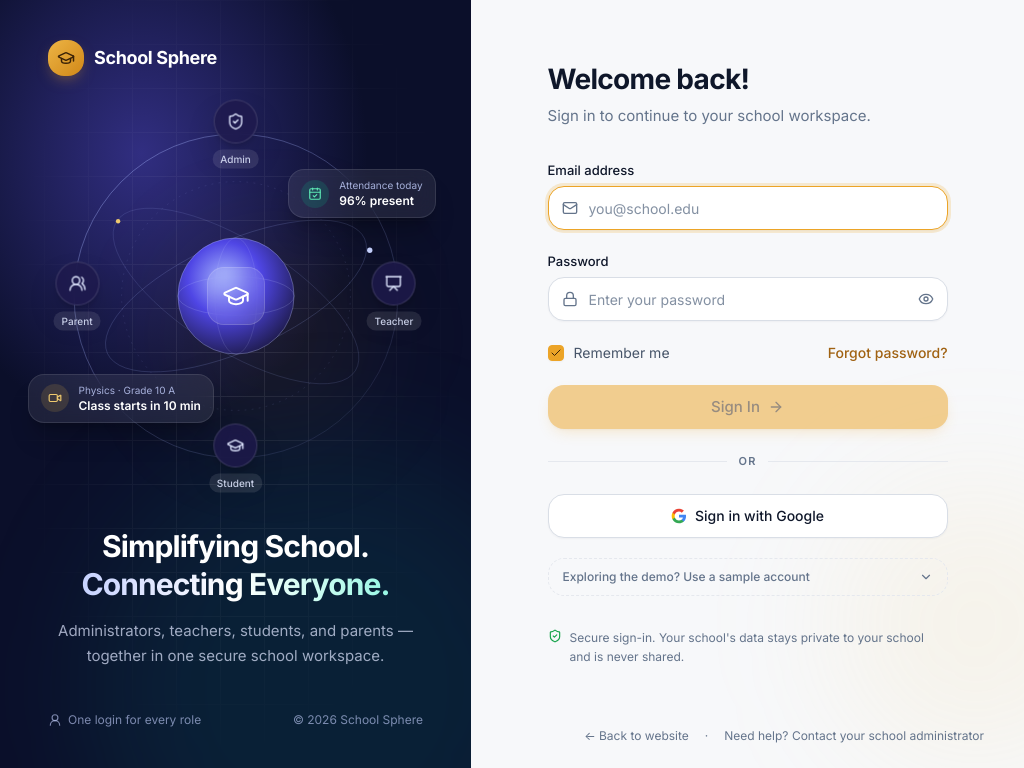
Test: LoginPage › keeps Sign In disabled until both fields are filled and validates the email
Expected: the button "Sign In" is disabled, [548,385,948,429]
Type "not-an-email" into the field labelled "Email address". click: (748, 208)
box: [548,186,948,230]
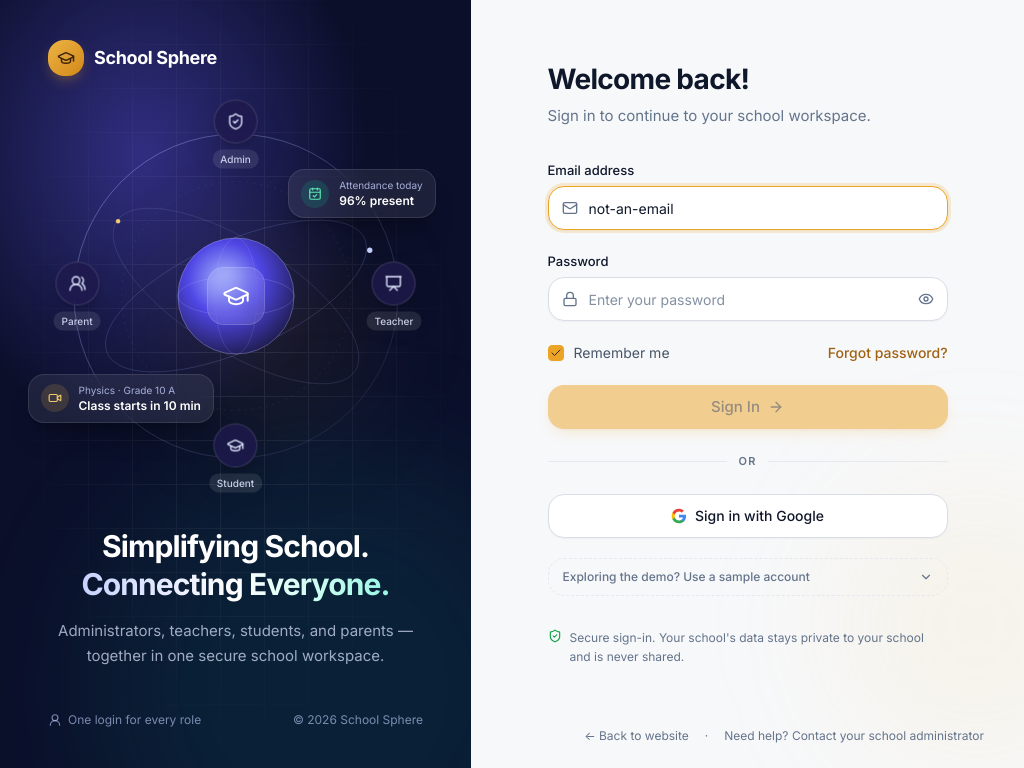
Type "not-a-real-secret" into the password field labelled "Password". click: (748, 299)
box: [548,277,948,321]
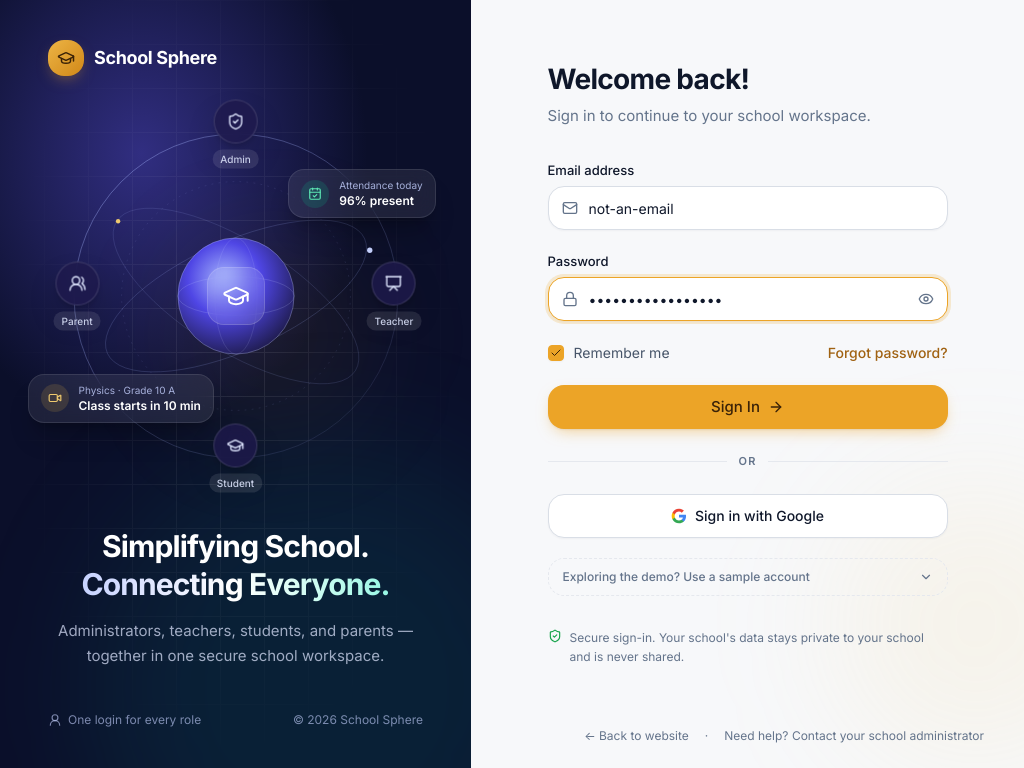
Click the button "Sign In". click: (748, 407)
box: [548,385,948,429]
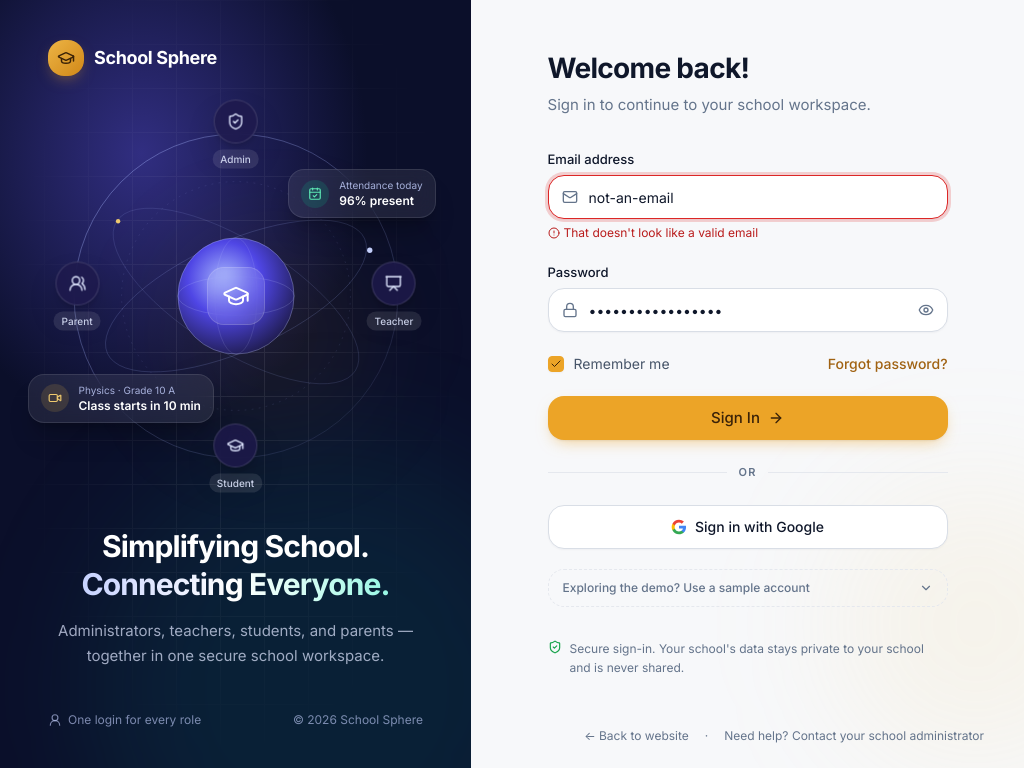
Now the text "That doesn't look like a valid email" is shown, box [548,225,758,240]
